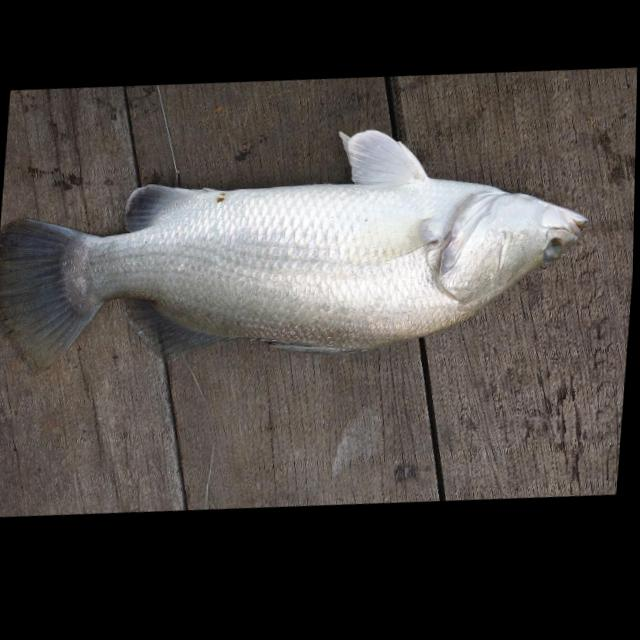Seabass: (0, 89, 595, 405)
